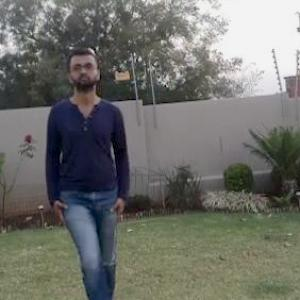follow: (38, 27, 138, 299)
